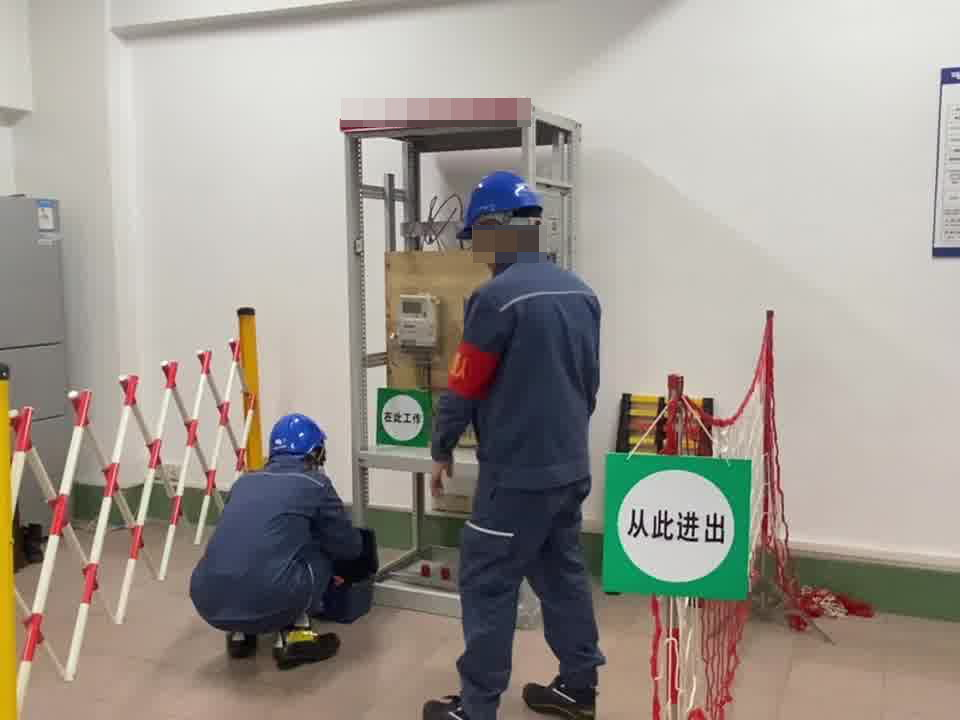badge: (445, 339, 503, 401)
downsuit: (454, 496, 605, 716)
halt: (460, 170, 549, 257), (268, 413, 329, 465)
hand: (426, 452, 468, 502)
inear: (478, 218, 510, 252)
intosign: (599, 457, 751, 595)
person: (426, 167, 610, 719), (192, 409, 379, 661)
shoe: (271, 604, 343, 668)
upsuit: (431, 253, 605, 485), (210, 467, 359, 608)
worksign: (370, 389, 430, 446)
